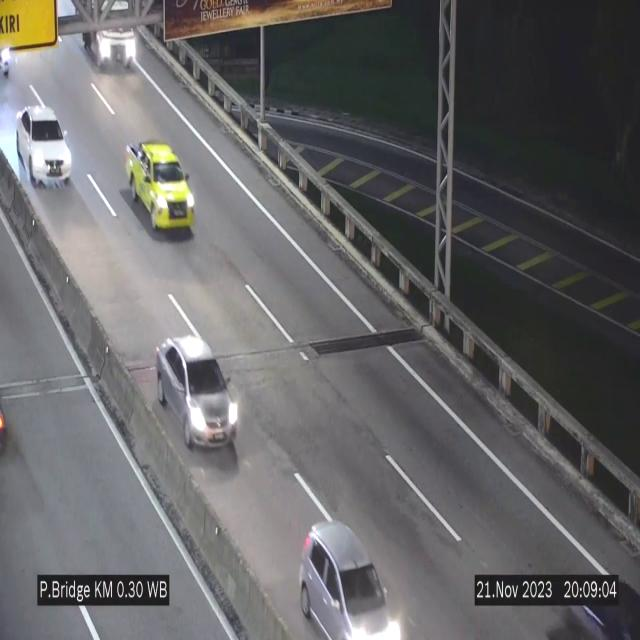Car: (299, 521, 403, 640), (156, 336, 240, 448), (126, 139, 194, 234), (17, 106, 72, 189)
